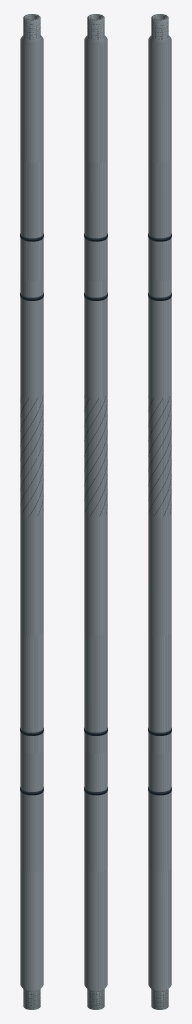
The model's file is jar.glb.
3 renders of one model, left to right at view 1: azimuth 30°, elevation 25°; view 2: azimuth 150°, elevation 25°; view 3: azimuth 330°, elevation 25°, orthographic.
Parts seen in each view (by area): view 1: tool-housing (×2), service-features, sliding-mandrel, uphole-connection; view 2: tool-housing (×2), service-features, sliding-mandrel, uphole-connection; view 3: tool-housing (×2), service-features, sliding-mandrel, uphole-connection.
Part boxes in pixels (x1=…): tool-housing (×2): x1=20, y1=14, x2=43, y2=1009; service-features: x1=20, y1=233, x2=43, y2=795; sliding-mandrel: x1=20, y1=395, x2=43, y2=516; uphole-connection: x1=24, y1=14, x2=40, y2=38; tool-housing (×2): x1=84, y1=14, x2=107, y2=1009; service-features: x1=84, y1=233, x2=107, y2=795; sliding-mandrel: x1=84, y1=396, x2=107, y2=515; uphole-connection: x1=87, y1=14, x2=103, y2=38; tool-housing (×2): x1=148, y1=14, x2=171, y2=1009; service-features: x1=148, y1=233, x2=171, y2=795; sliding-mandrel: x1=148, y1=396, x2=171, y2=515; uphole-connection: x1=151, y1=14, x2=167, y2=38.
Size of the model in its own units: 0.1195 by 5.5 by 0.1195.
2 materials, 2 textured.
